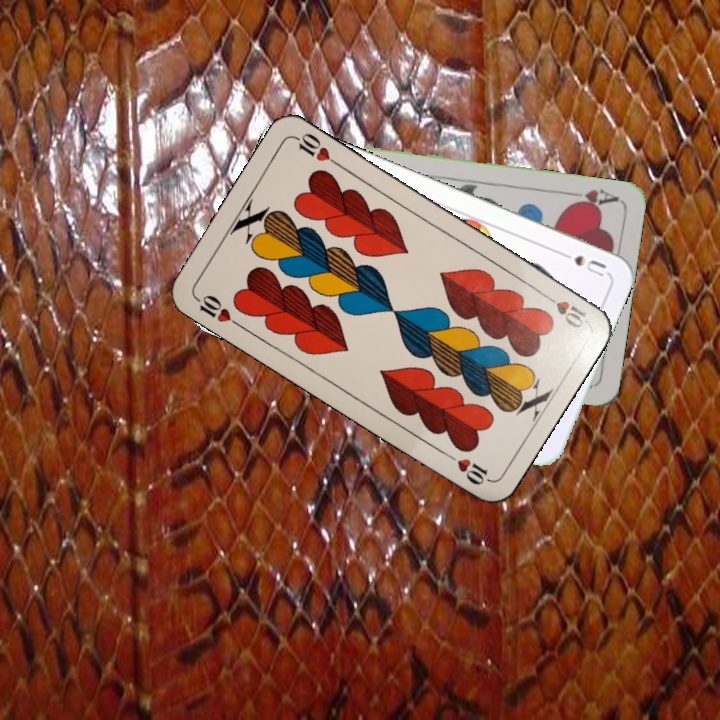H10: (537, 288, 590, 331), (191, 290, 244, 330)
HA: (561, 185, 621, 212)
SU: (553, 246, 609, 280)
